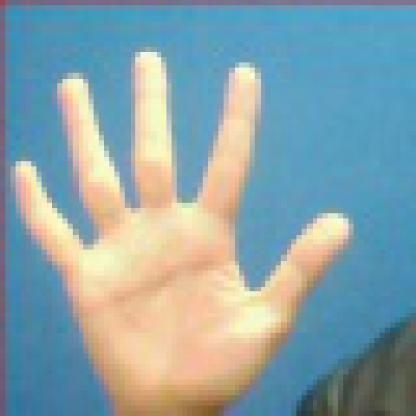five: (7, 47, 358, 414)
